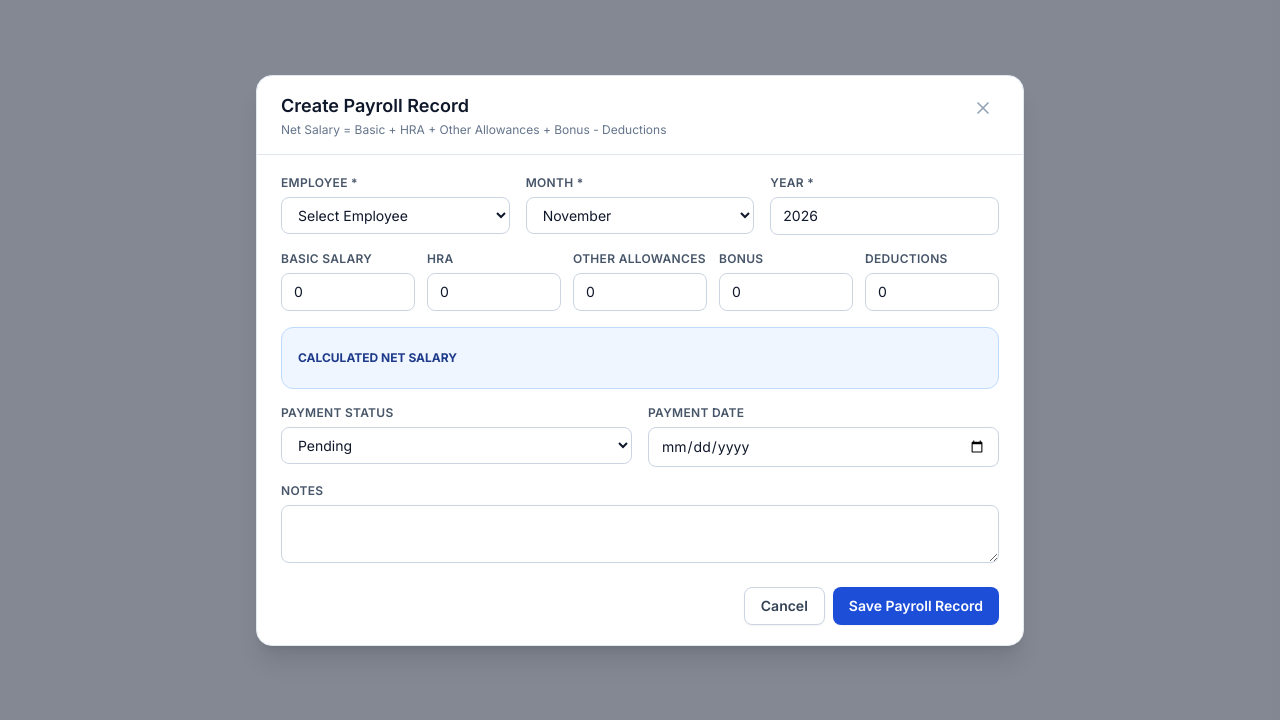
Scenario: Frontend Component & Form Validation Tests › computes Net Salary preview dynamically in PayrollFormModal
Note: Inputs: year, basic, hra, otherAllowances, bonus, deductions
Replace the text in the number field below "Basic Salary" with "6000" at coordinates (348, 292), box x1=281 y1=272 x2=415 y2=310
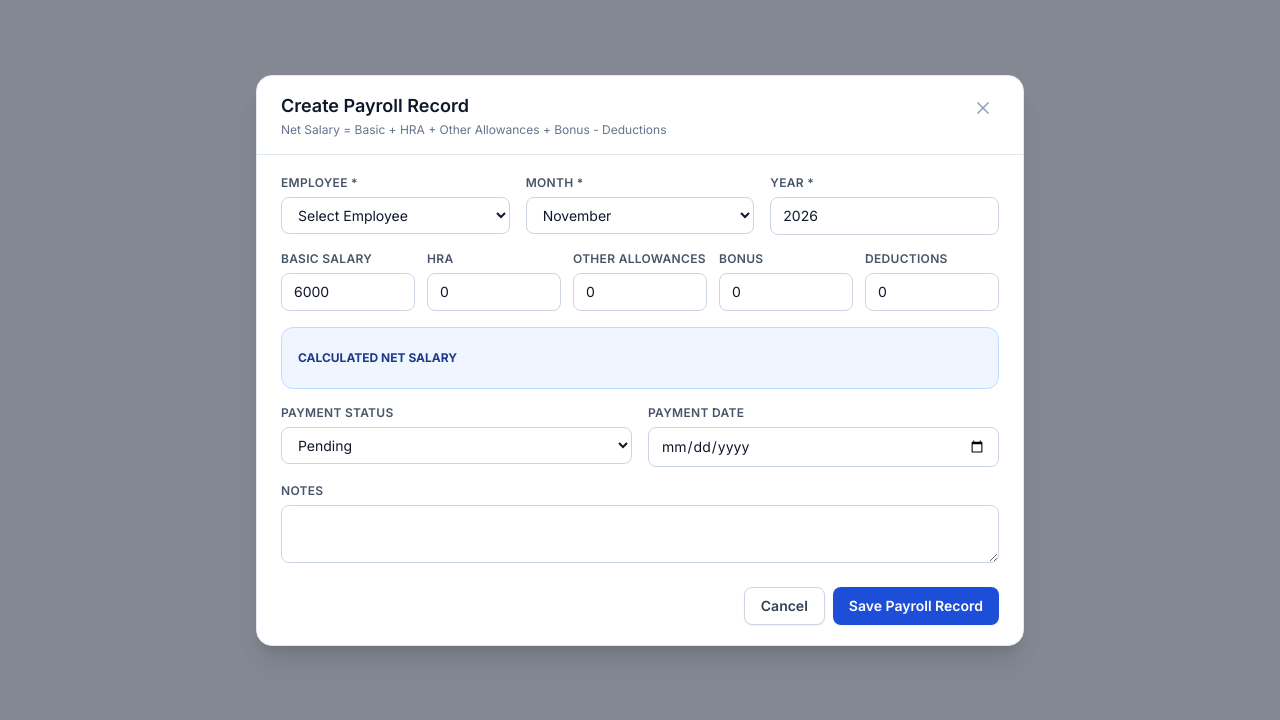
Replace the text in the 3rd number field with "1500" at coordinates (494, 292), box x1=427 y1=272 x2=561 y2=310
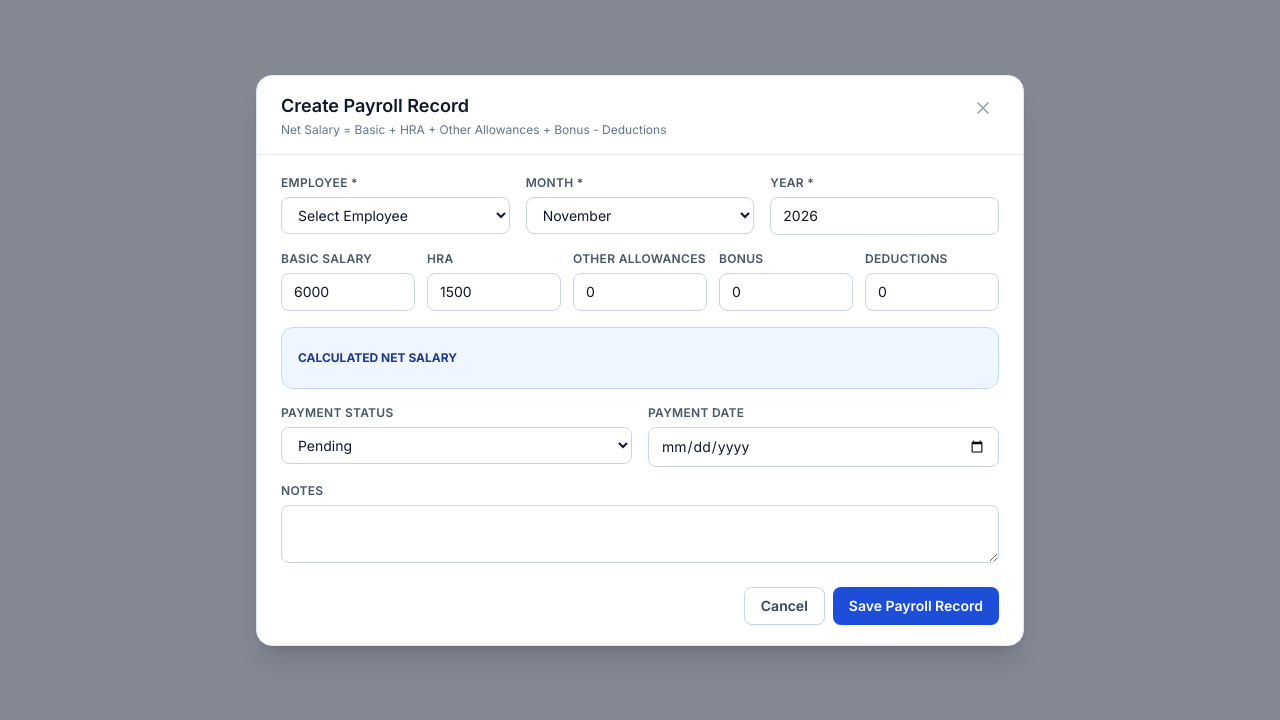
Replace the text in the 4th number field with "500" at coordinates (640, 292), box x1=573 y1=272 x2=707 y2=310
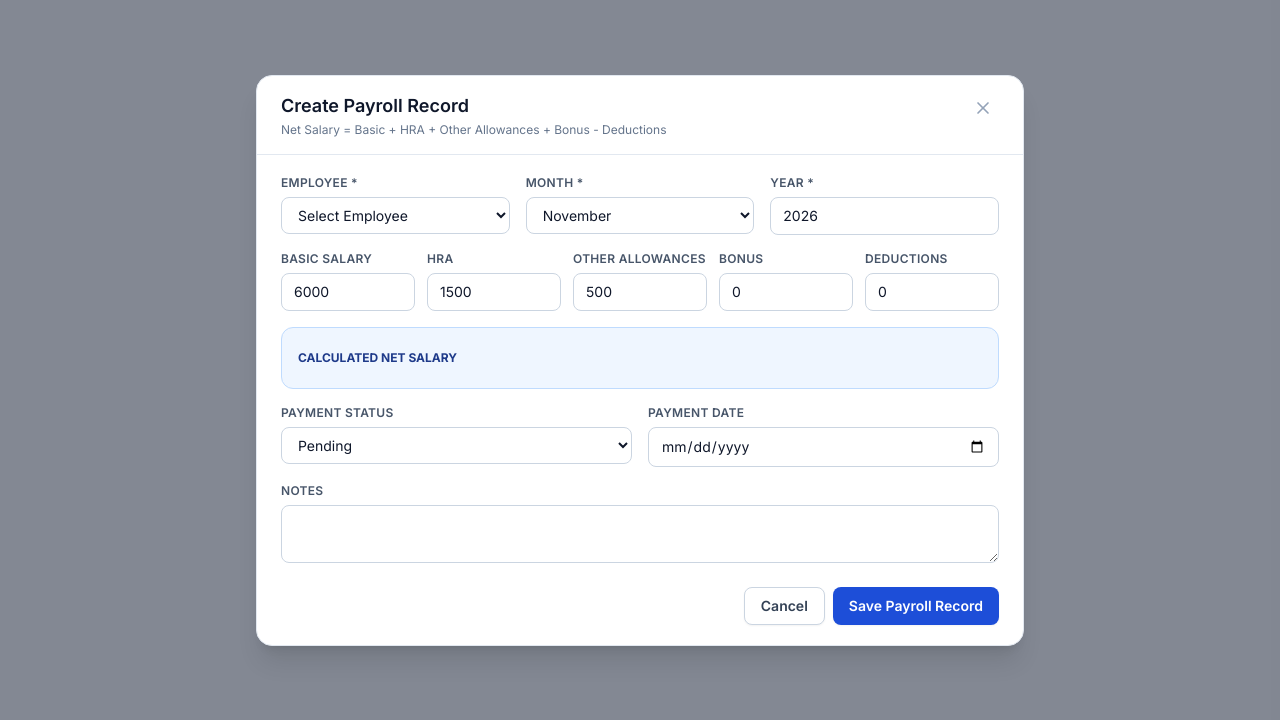
Replace the text in the 5th number field with "300" at coordinates (786, 292), box x1=719 y1=272 x2=853 y2=310
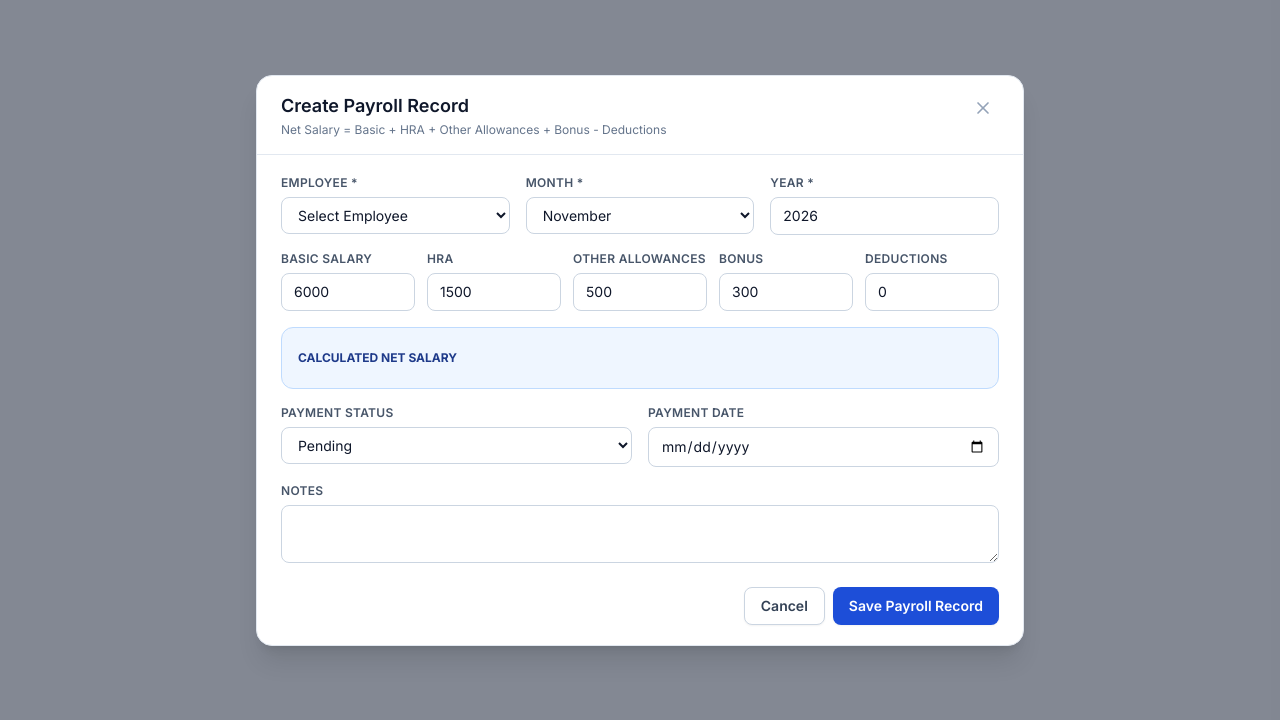
Replace the text in the 6th number field with "400" at coordinates (932, 292), box x1=865 y1=272 x2=999 y2=310
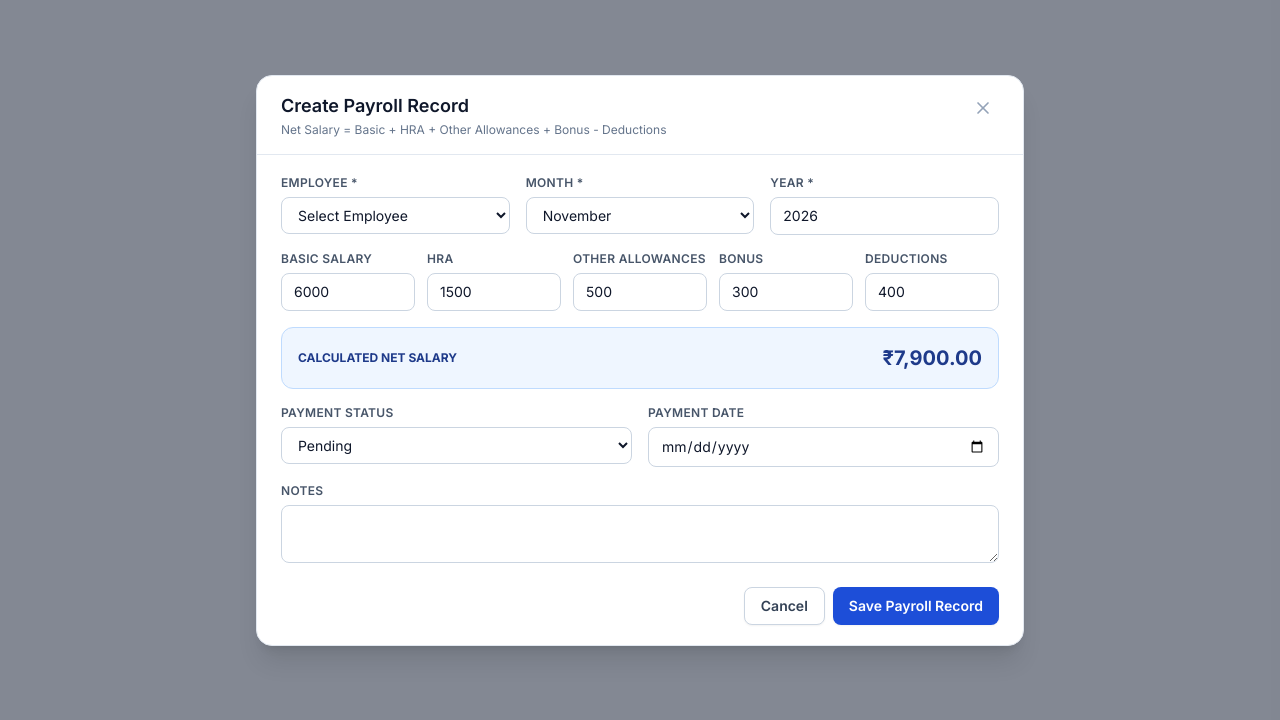
Expected: the text "₹7,900.00" is shown, x1=883 y1=344 x2=982 y2=372
